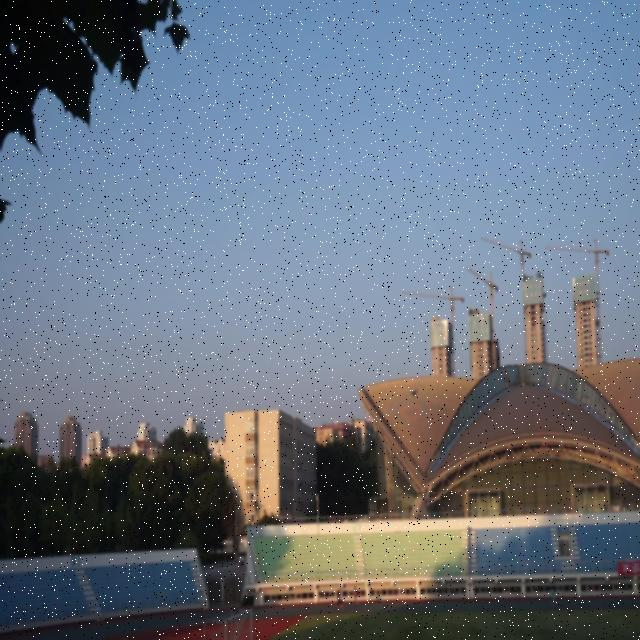UAV: (411, 388, 419, 398)
